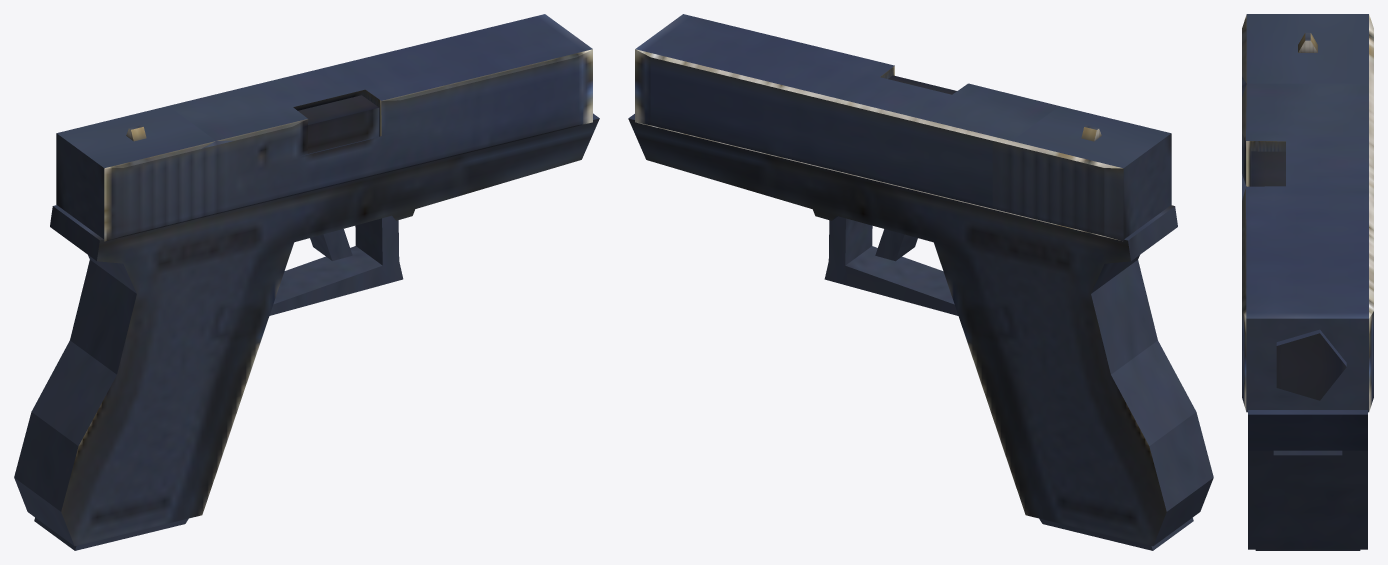
The model's file is glock.glb.
3 renders of one model, left to right at view 1: azimuth 30°, elevation 25°; view 2: azimuth 150°, elevation 25°; view 3: azimuth 270°, elevation 25°, orthographic. The views are drawn at different scales.
Visible parts, largest first — view 1: grip, slide, trigger guard, magazine; view 2: grip, slide, trigger guard, magazine; view 3: slide, grip, barrel, trigger guard, magazine.
Boxes of the visible parts, x1,y1,x2,y2 form: grip: (14,113,599,546); slide: (56,14,592,241); trigger guard: (269,216,403,315); magazine: (34,517,188,550); grip: (628,114,1213,546); slide: (635,14,1171,241); trigger guard: (824,216,958,315); magazine: (1039,517,1193,550); slide: (1242,14,1373,412); grip: (1248,410,1367,549); barrel: (1276,329,1346,400); trigger guard: (1273,450,1342,455); magazine: (1255,549,1360,550).
Size of the model in its own units: 4.1 by 2.82 by 0.6784.
1 material, 1 textured.
